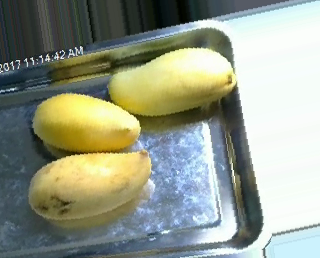Mango: (24, 148, 155, 226), (104, 47, 238, 121), (34, 91, 146, 155)
